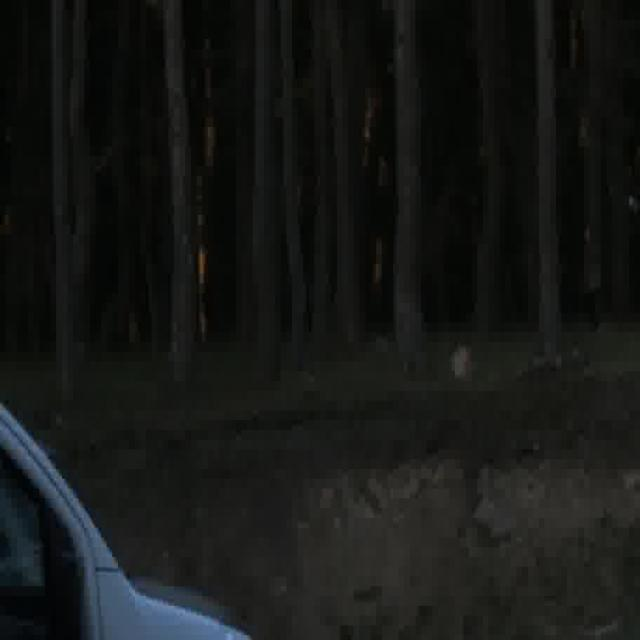Car: (0, 398, 249, 640)
